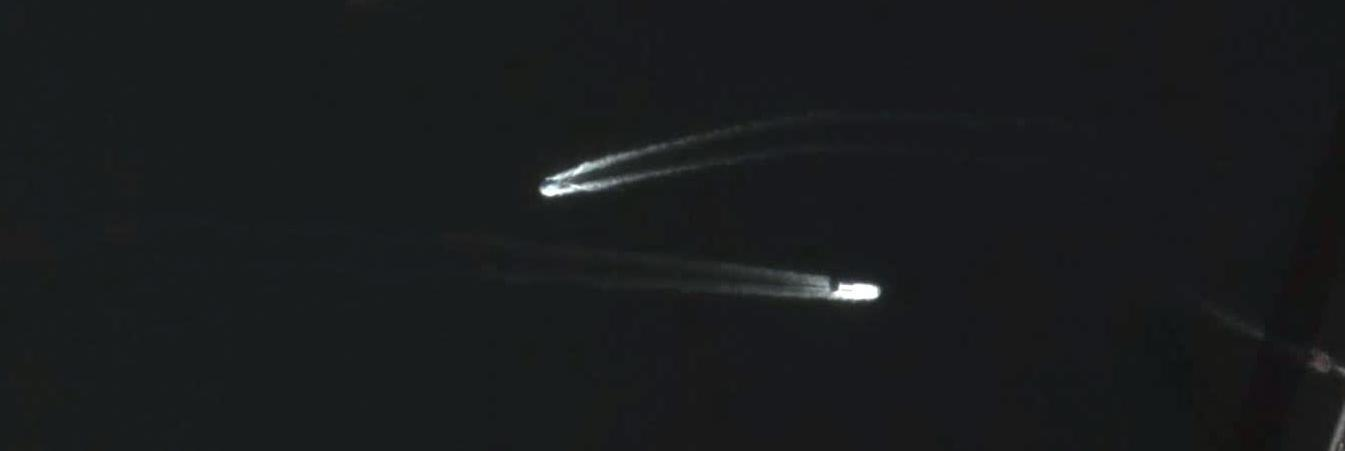person: (837, 282, 881, 301), (538, 180, 556, 188)
